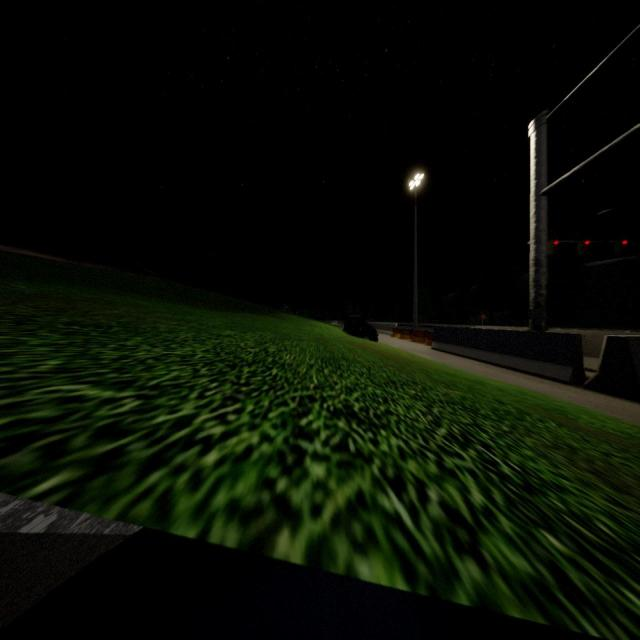Traffic_Signs: (480, 314, 486, 320)
Vehicle: (343, 316, 377, 342)
traffic_light: (584, 239, 590, 246), (553, 240, 559, 246), (622, 240, 627, 245)
